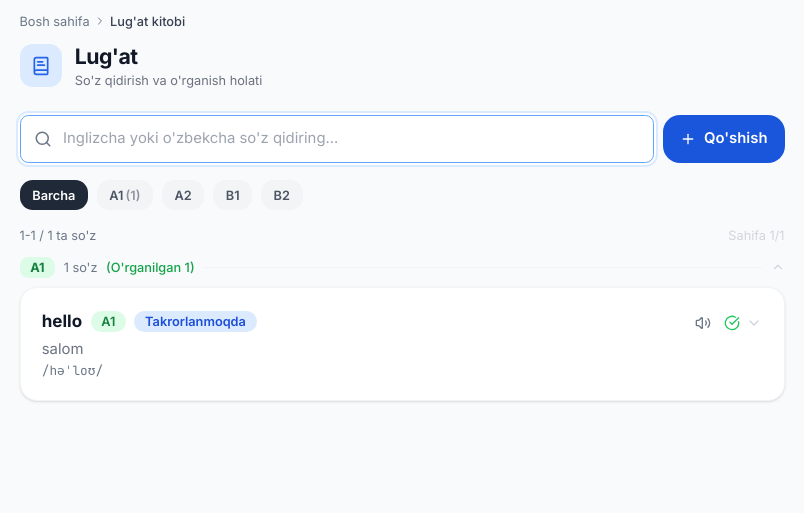
Test: Dictionary — page integration tests › expands word card on click to show details
The image size is (804, 513).
Expected: the text "salom" is shown, [42,340,84,358]
# Click to expand
Click the text "hello". click: (62,322)
box: [42,309,82,334]
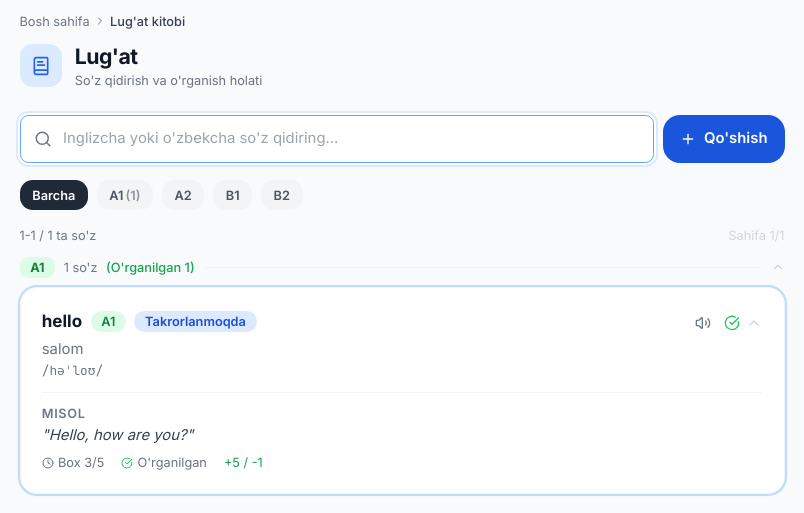
Result: the text "\"Hello, how are you?\"" is shown at [42,426,194,444]
Result: the text "Box 3/5" is shown at [42,454,104,471]
Result: the text "+5 / -1" is shown at [224,454,263,471]
